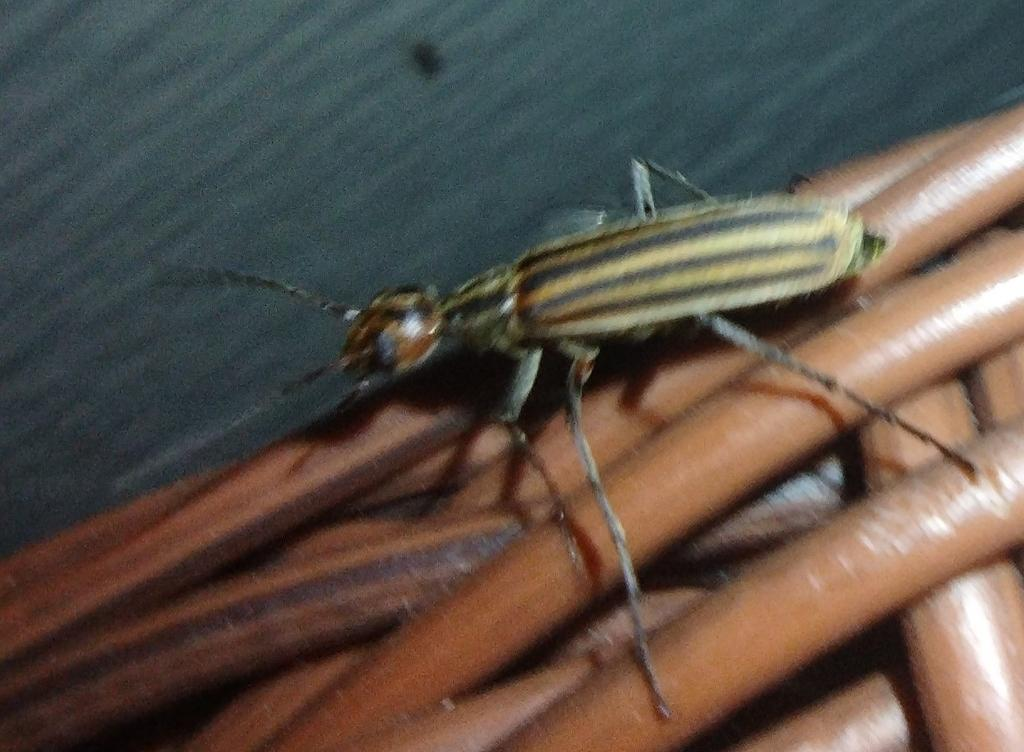blister_beetle: (126, 52, 1021, 752)
